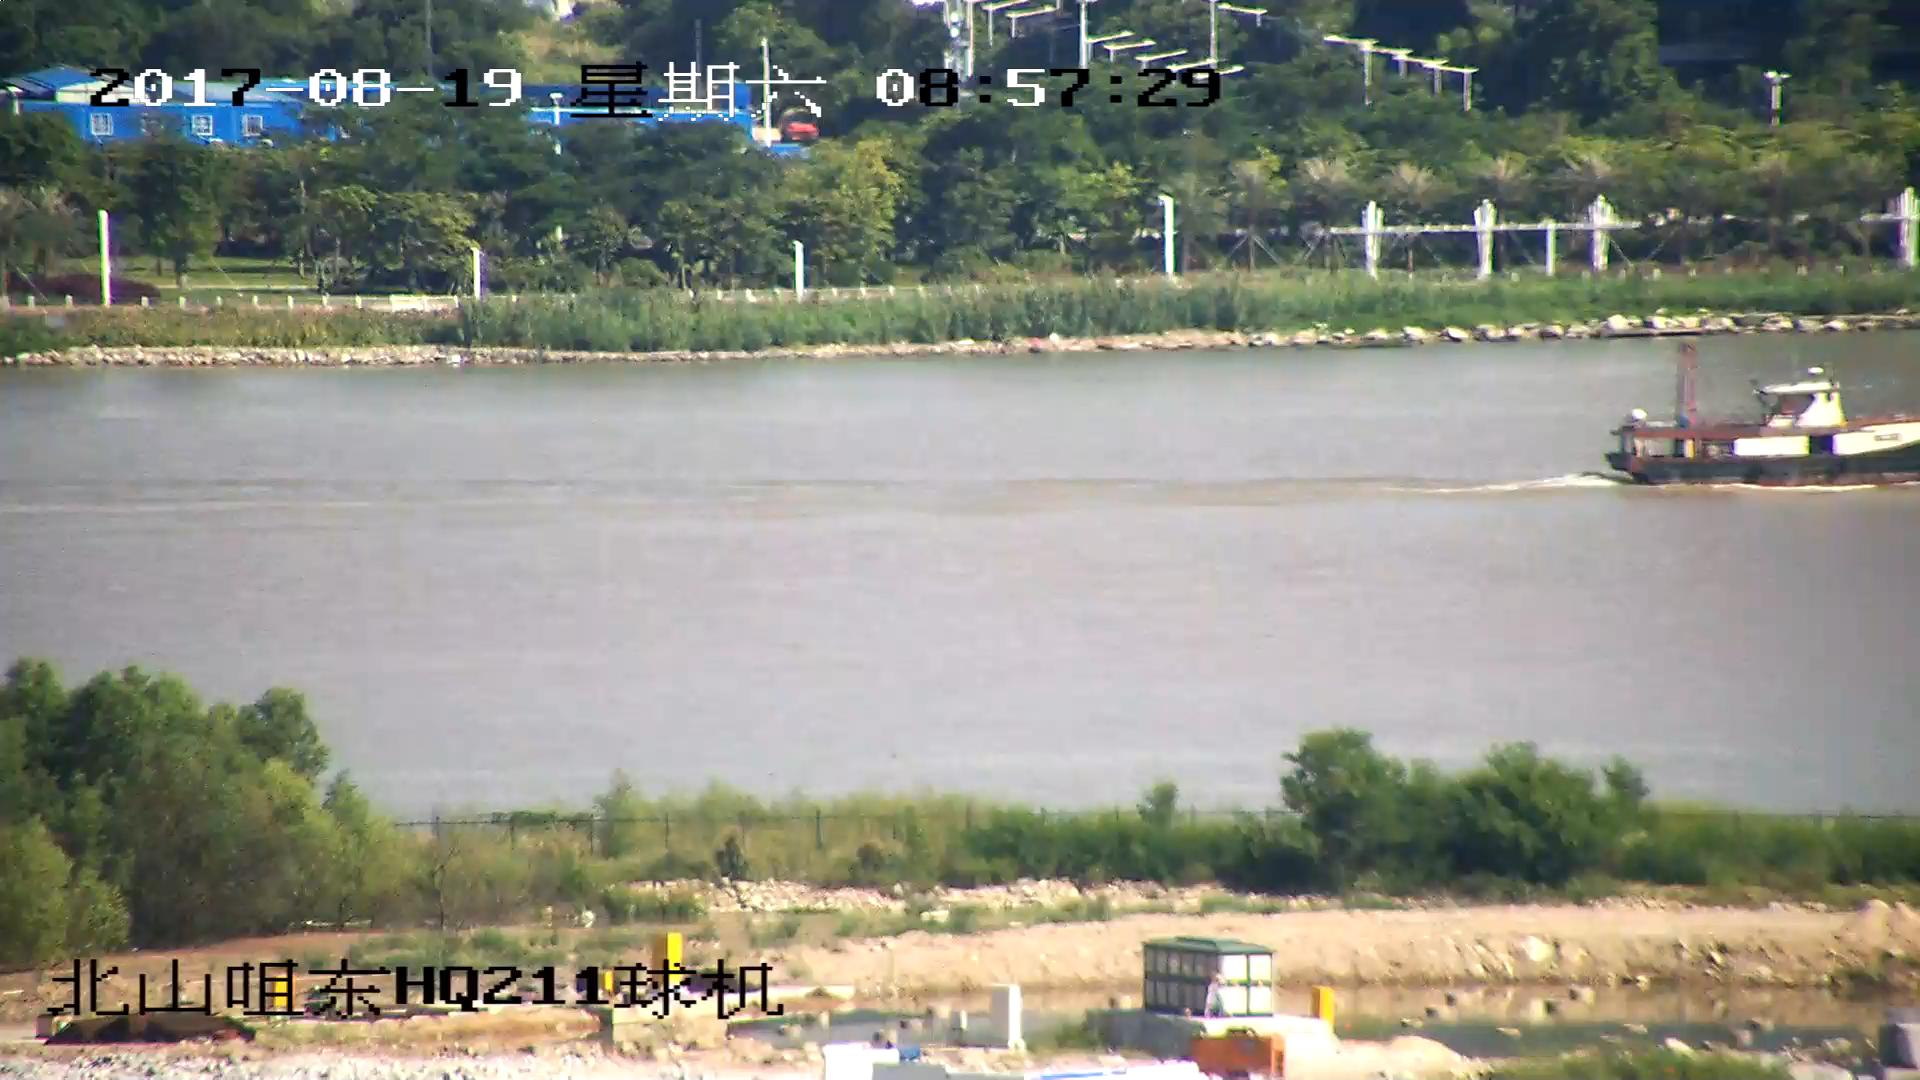fishing boat: (1611, 344, 1920, 490)
